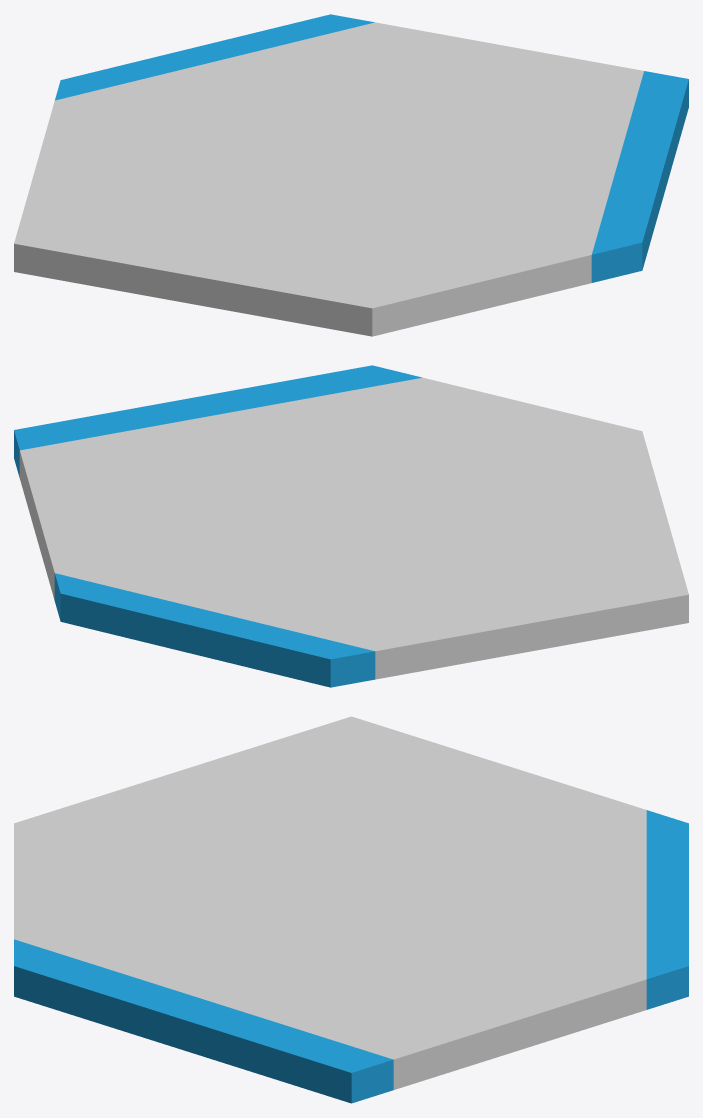
The picture shows the model from 3 angles, top to bottom: view 1: azimuth 30°, elevation 25°; view 2: azimuth 150°, elevation 25°; view 3: azimuth 270°, elevation 25°; orthographic projection. The views are drawn at different scales.
Parts seen in each view (by area): view 1: Hexagon, SE, N; view 2: Hexagon, N, SE; view 3: Hexagon, SE, N.
Boxes of the visible parts, x1,y1,x2,y2 form: Hexagon: (14, 22, 643, 336); SE: (591, 71, 688, 282); N: (55, 14, 374, 100); Hexagon: (19, 377, 688, 679); N: (54, 573, 375, 687); SE: (14, 365, 421, 477); Hexagon: (14, 716, 646, 1089); SE: (14, 939, 393, 1103); N: (646, 810, 688, 1009).
Size of the model in its own units: 5 by 4 by 0.2.
